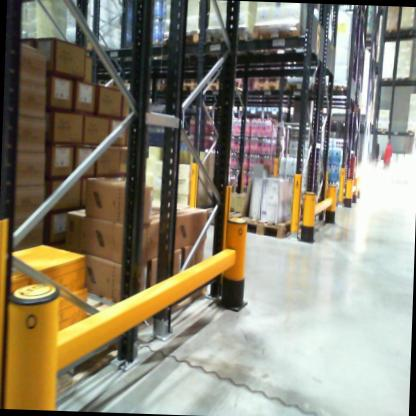pallet: (181, 76, 245, 224), (236, 203, 316, 243), (251, 22, 317, 63), (201, 24, 268, 53), (163, 28, 202, 51), (252, 76, 288, 98), (321, 81, 348, 96)
